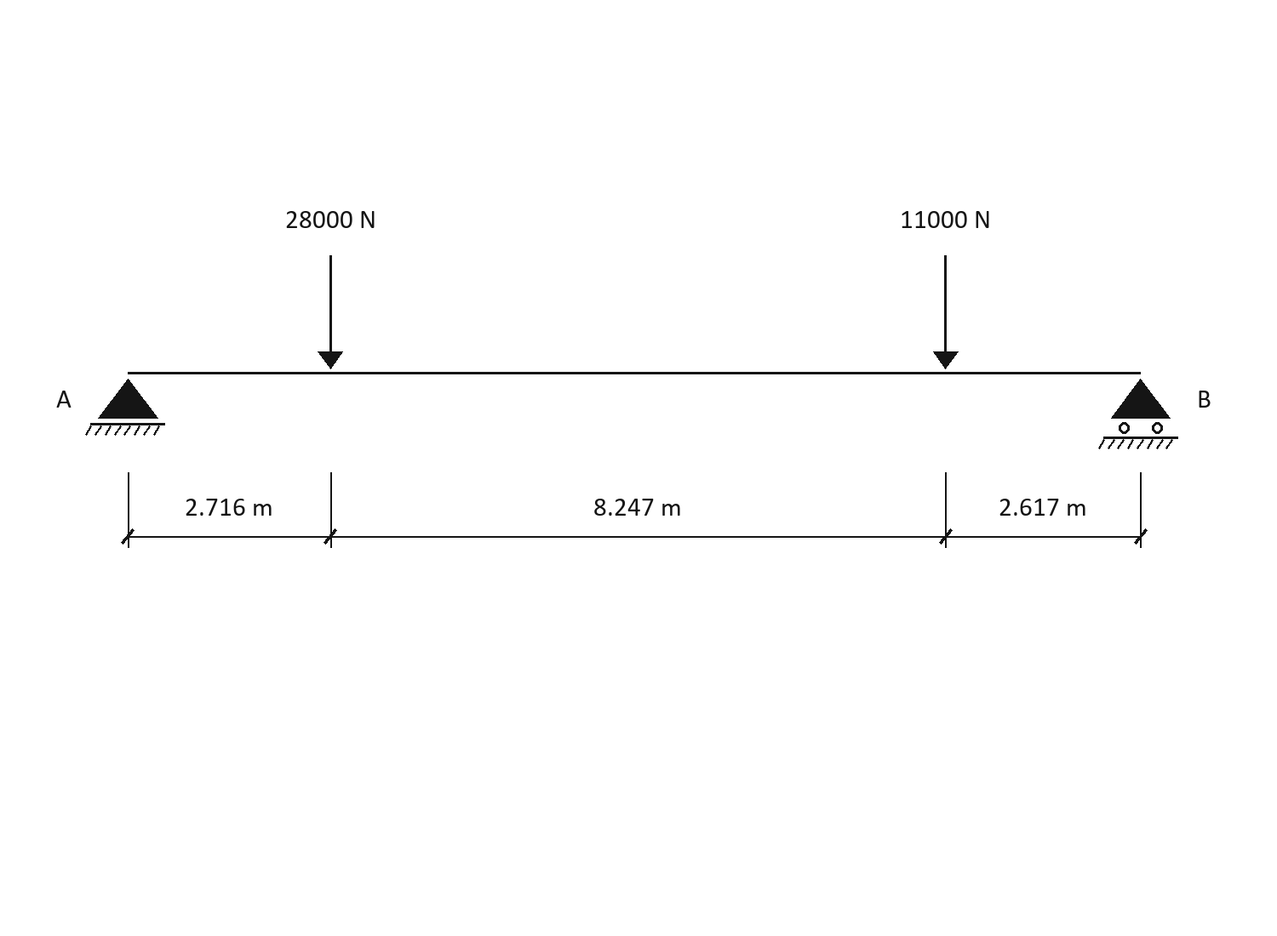pin_support: (85, 379, 165, 436)
point_load: (933, 255, 959, 369), (318, 255, 343, 369)
roller_support: (1098, 379, 1178, 449)
